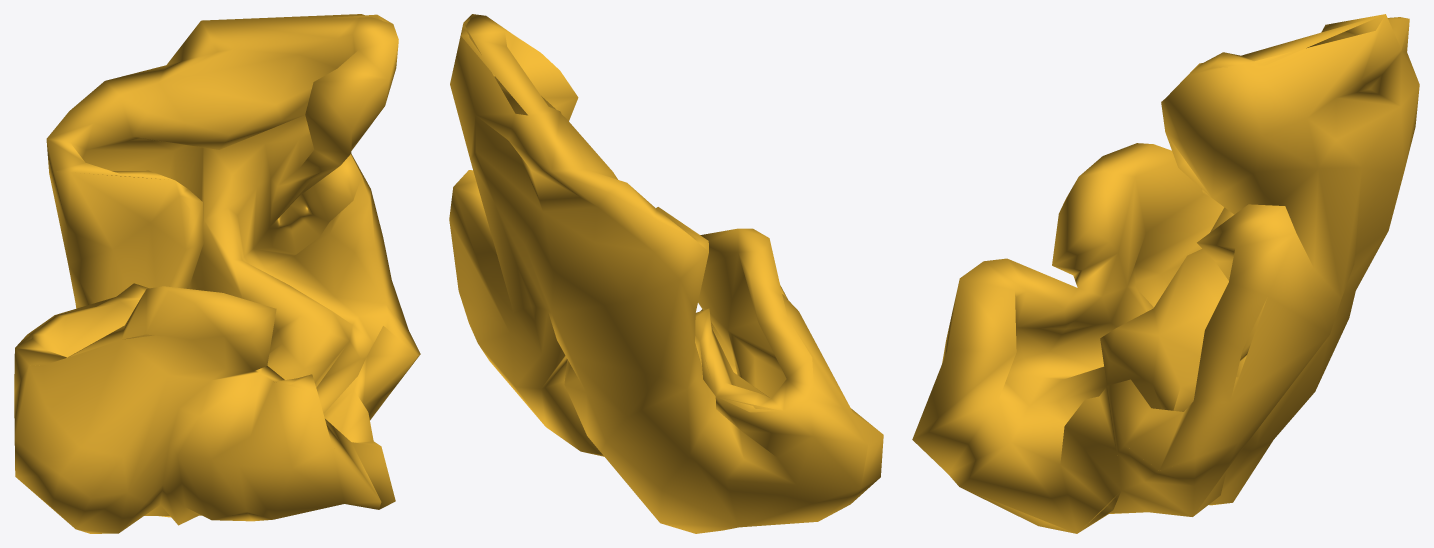
File: nervoso-occipital-pole-l.glb
The picture shows the model from 3 angles, left to right: view 1: azimuth 30°, elevation 25°; view 2: azimuth 150°, elevation 25°; view 3: azimuth 270°, elevation 25°; orthographic projection. The views are drawn at different scales.
Parts seen in each view (by area): view 1: Occipital pole.l; view 2: Occipital pole.l; view 3: Occipital pole.l.
Part boxes in pixels (<box>): Occipital pole.l: <box>14,14,420,533</box>; Occipital pole.l: <box>449,14,883,533</box>; Occipital pole.l: <box>912,14,1419,533</box>.
Bounding box in the file's own units: 0.0316 × 0.0345 × 0.0284.
